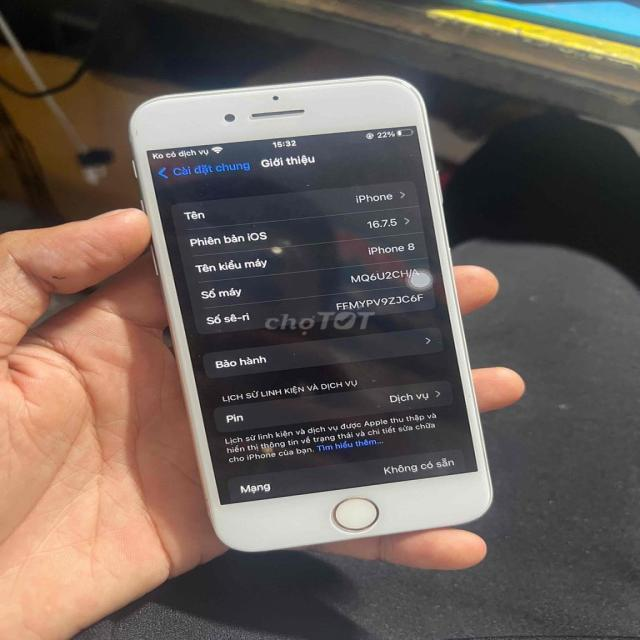gen_7_8: (120, 75, 501, 553)
